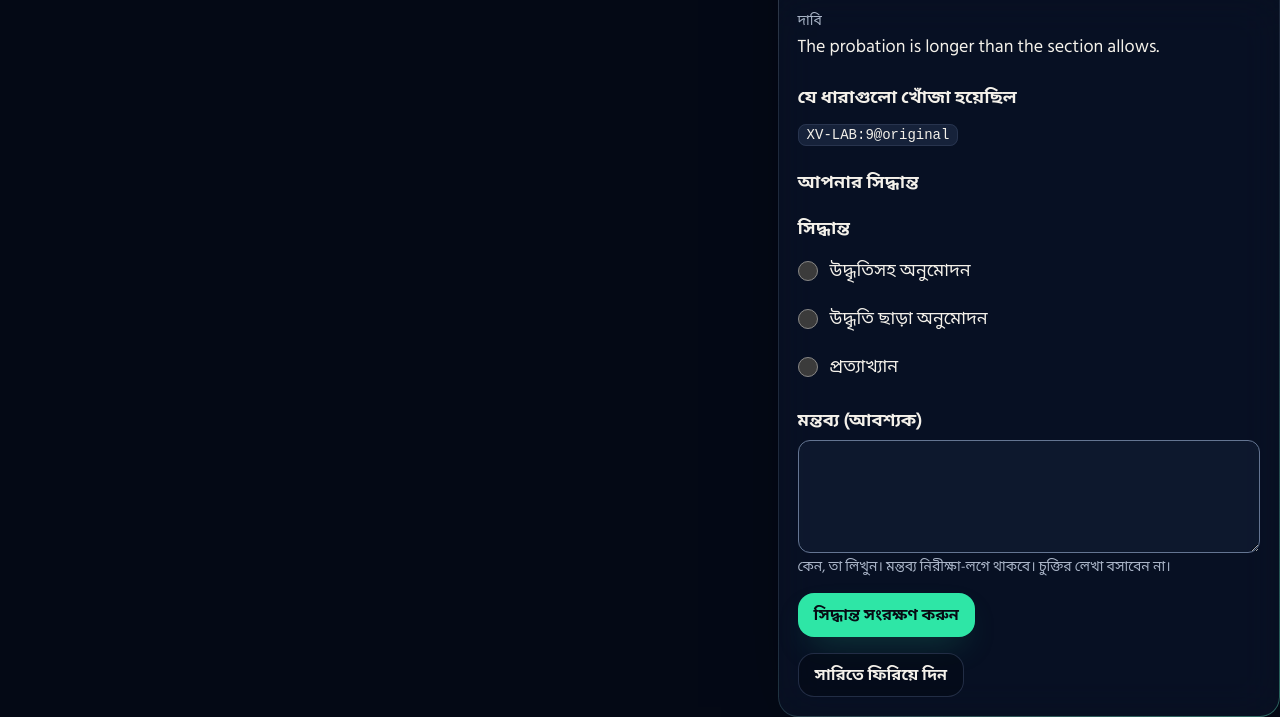
review queue (FR-60) › FR-60 sends a rejection with its note
(page scrolled)
Click the radio button labelled "প্রত্যাখ্যান" at (808, 366), box [798,356,818,376]
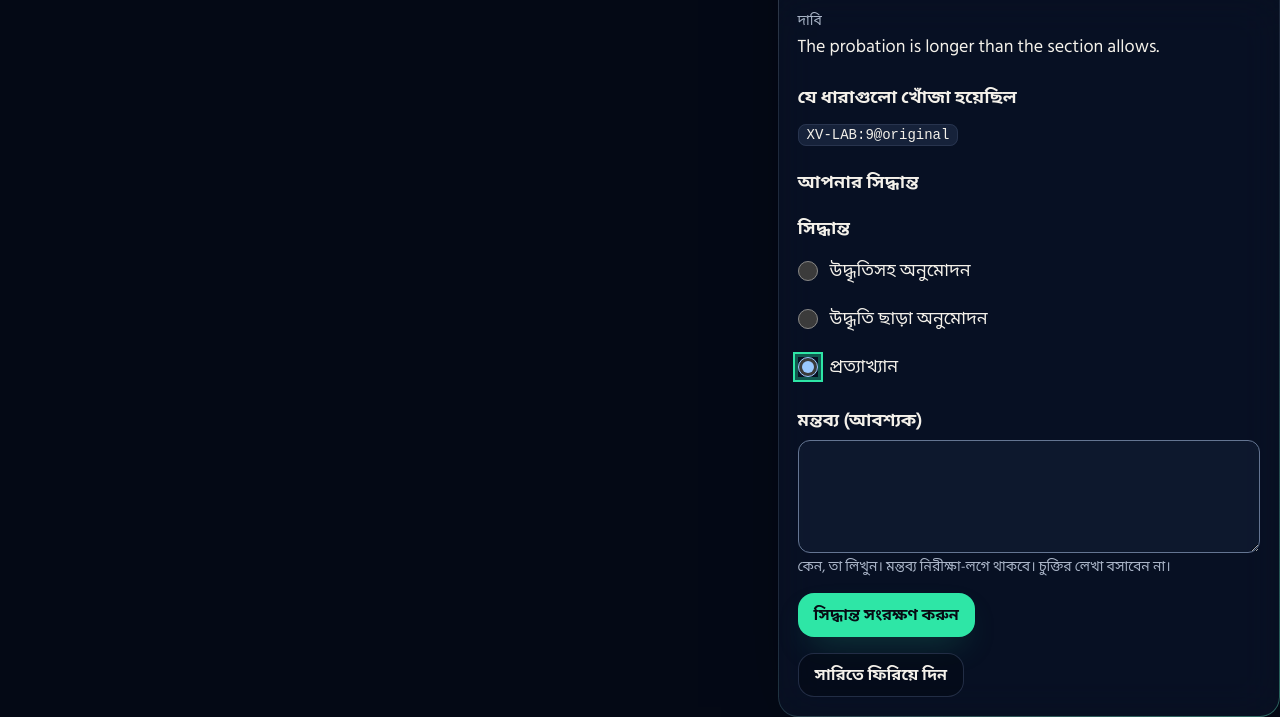
Type "No section supports it." into the text box labelled "মন্তব্য (আবশ্যক)" at (1029, 496), box [798,440,1260,552]
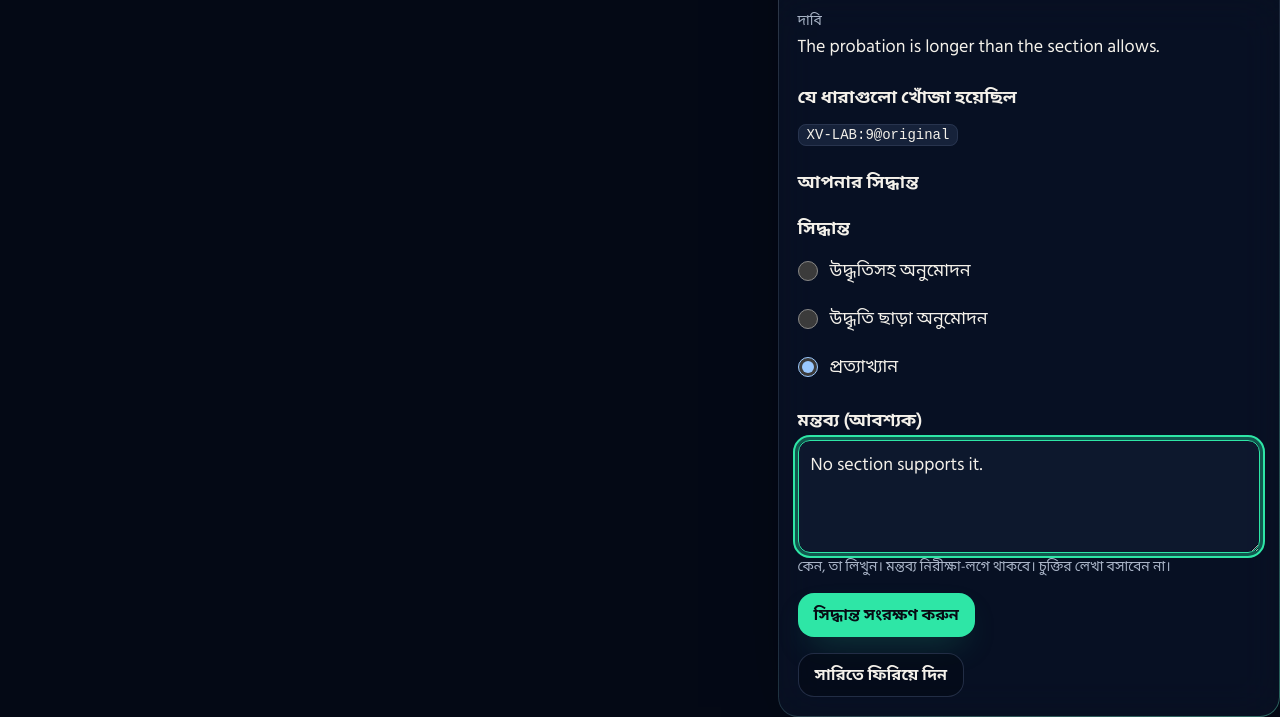
Click the button "সিদ্ধান্ত সংরক্ষণ করুন" at (886, 614), box [798,592,975,636]
(page scrolled)
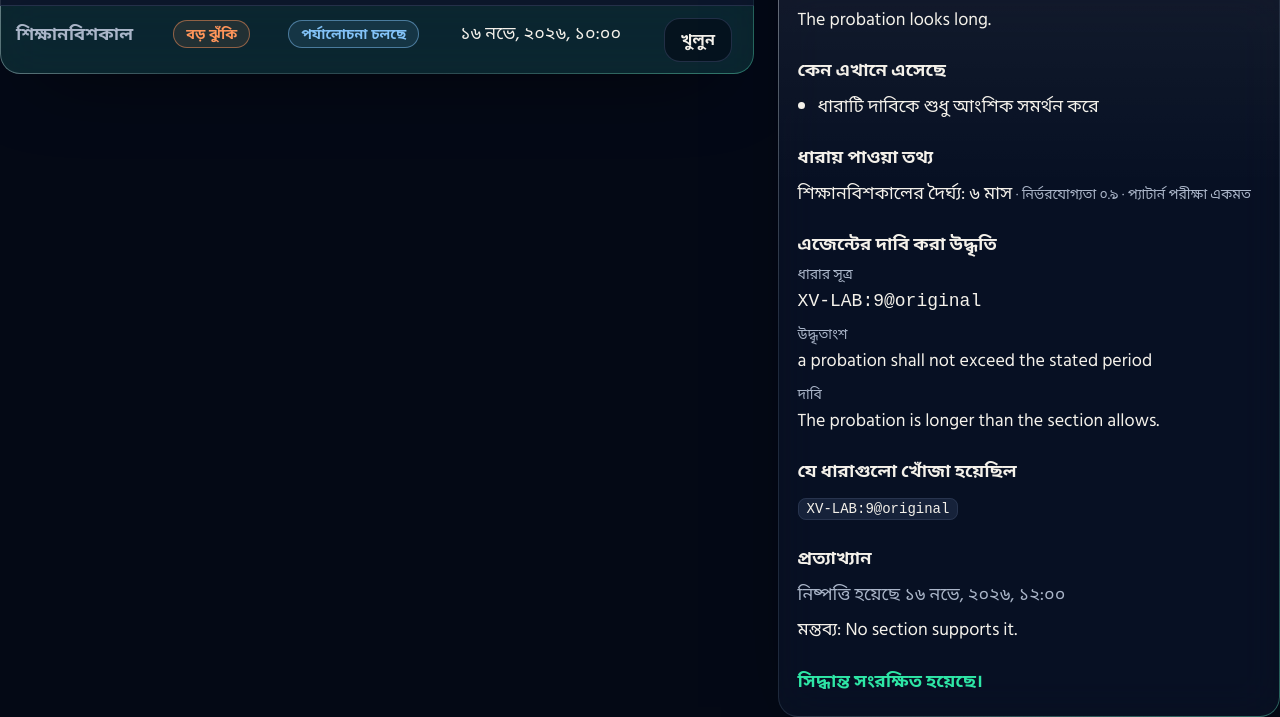
Result: the text "সিদ্ধান্ত সংরক্ষিত হয়েছে।" is shown at [798,666,983,696]
